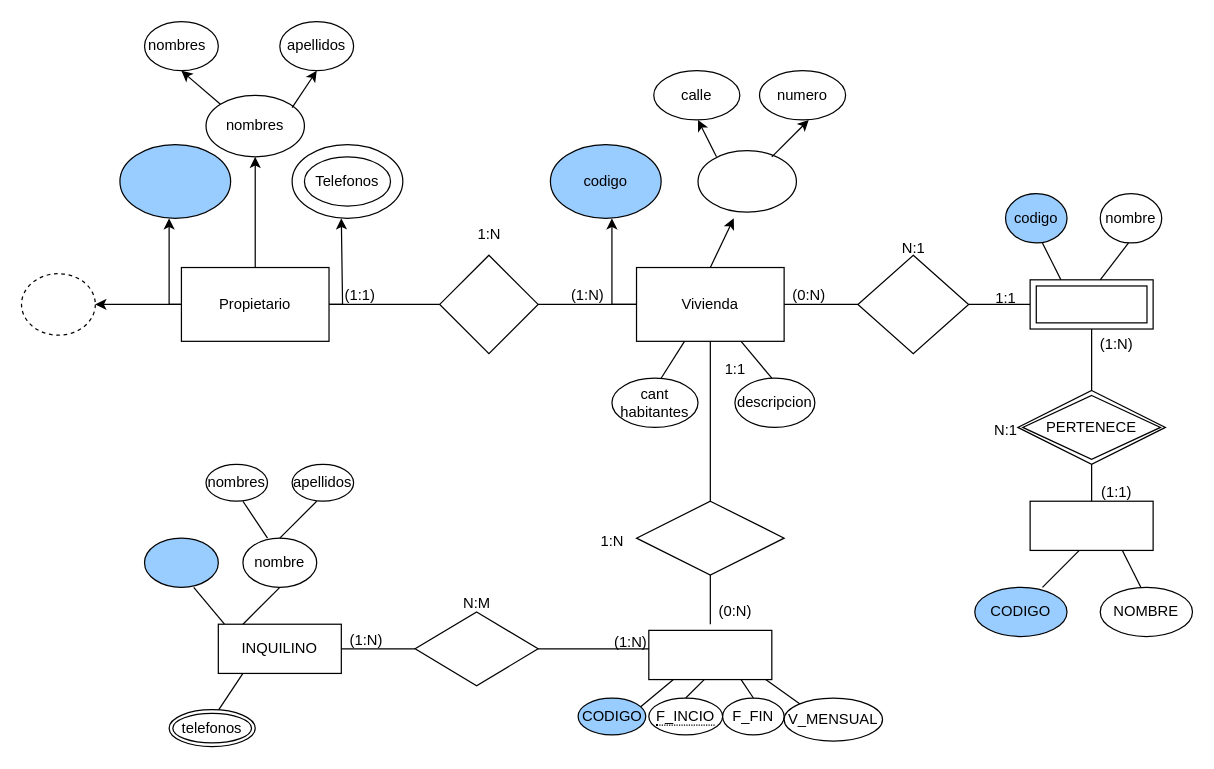
The diagram is 1214 pixels wide and 769 high, and some of its shapes have lost their labels. Here are the shapes that lost their labels. From the top down, the centre of each, then its label:
(175,180): identificacion
(746,180): direccion
(57,303): Email
(488,304): posee
(913,304): ubicada
(1091,304): CIUDAD
(709,537): PARTICIPA
(1091,525): DEPARTAMENTO
(180,562): identifica
(476,648): REALIZADO
(710,654): ARRIENDO
